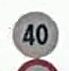limite 40: (12, 10, 59, 58)
